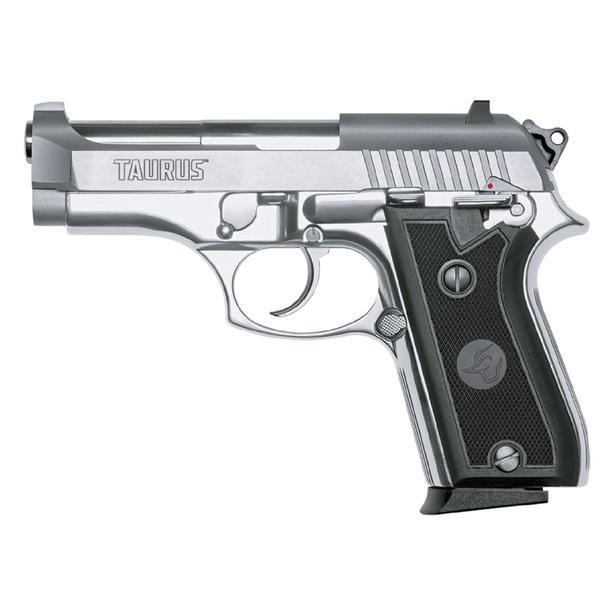Firearm: (17, 90, 602, 530)
